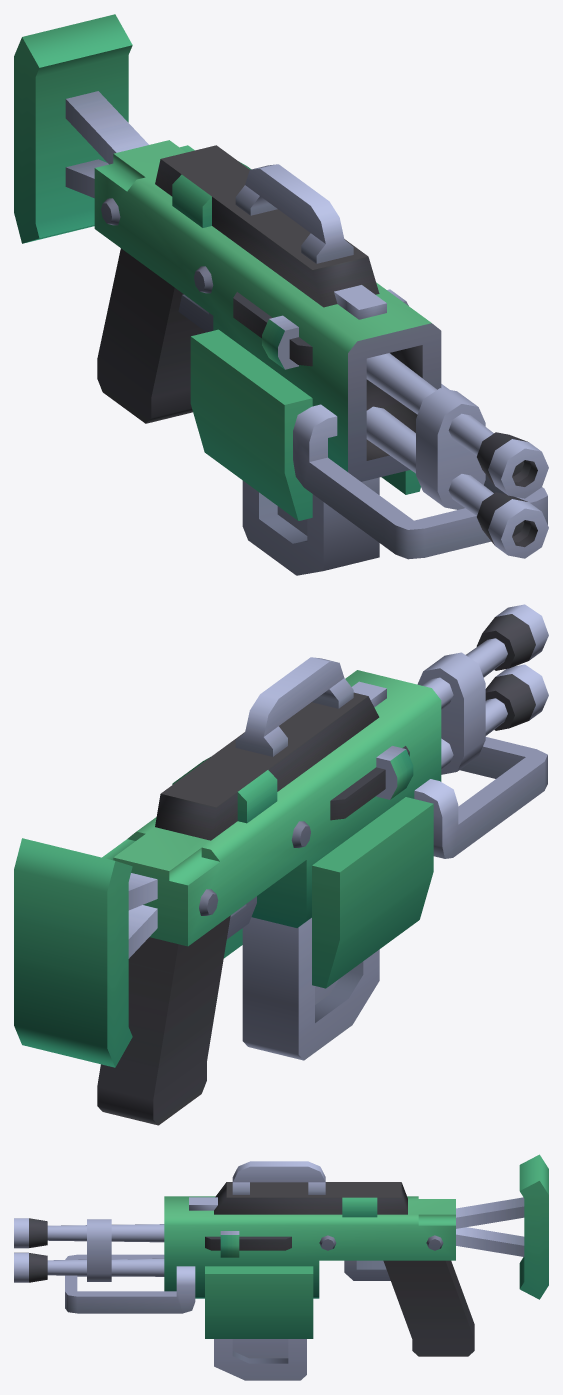
File: gun_cannon.glb
3 views of the same model, one above another, from view 1: azimuth 30°, elevation 25°; view 2: azimuth 150°, elevation 25°; view 3: azimuth 270°, elevation 25° (orthographic). The views are drawn at different scales.
Visible parts, largest first — view 1: blaster-p; view 2: blaster-p; view 3: blaster-p.
Part boxes in pixels (x1,y1,x2,y2): blaster-p: (14,14,548,575); blaster-p: (14,604,548,1125); blaster-p: (14,1154,548,1380).
Size of the model in its own units: 0.1484 by 0.3442 by 0.8.
1 material, 1 textured.
